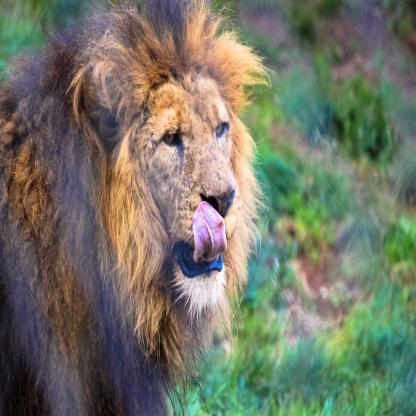lion: (68, 20, 276, 337)
